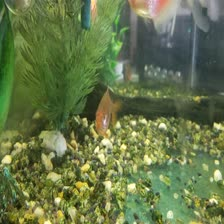Transparente: (87, 85, 124, 135)
